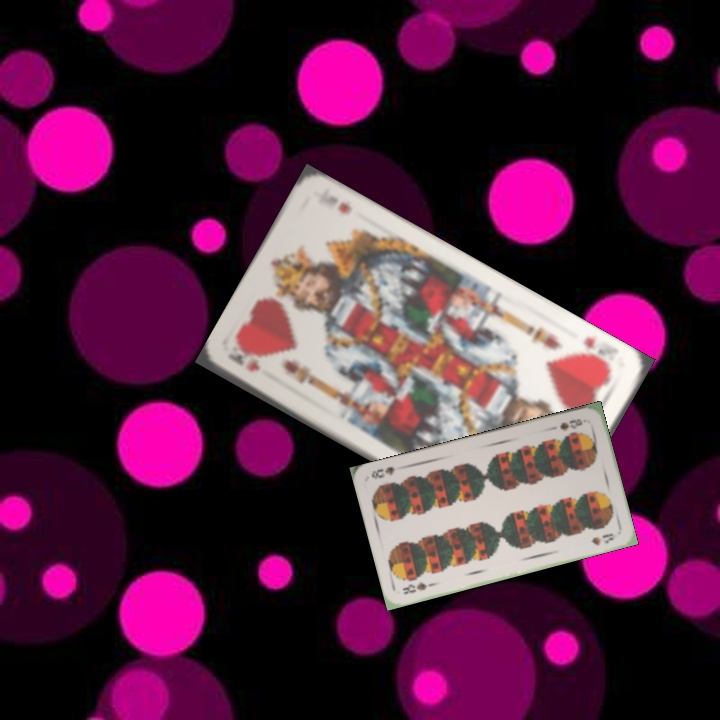HK: (576, 332, 614, 373), (225, 349, 263, 374)
S8: (399, 577, 437, 597), (556, 414, 589, 434)
